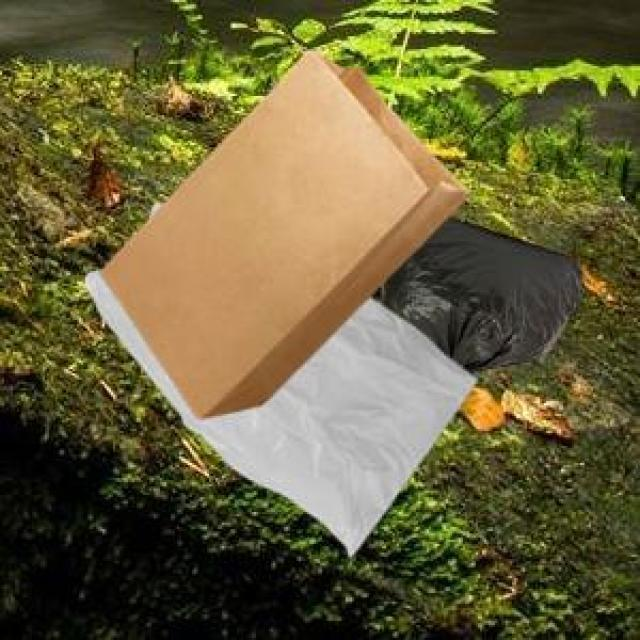miscellaneous trash: (378, 213, 578, 371)
paper: (96, 47, 465, 414)
